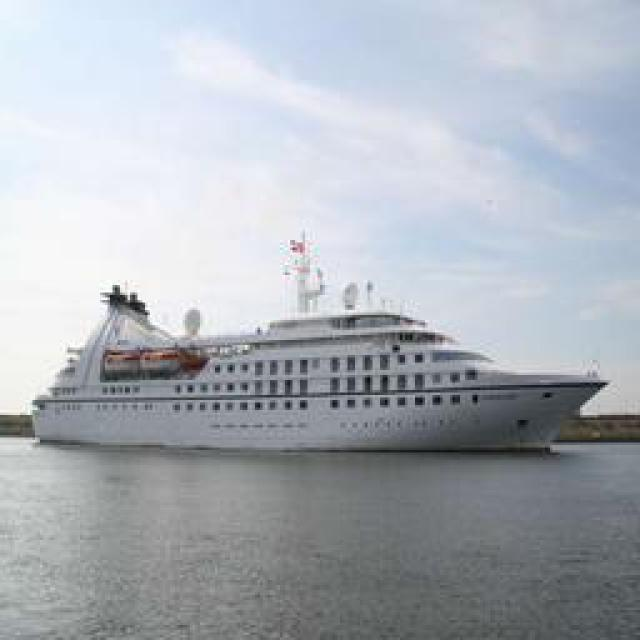Ship: (31, 260, 619, 458)
